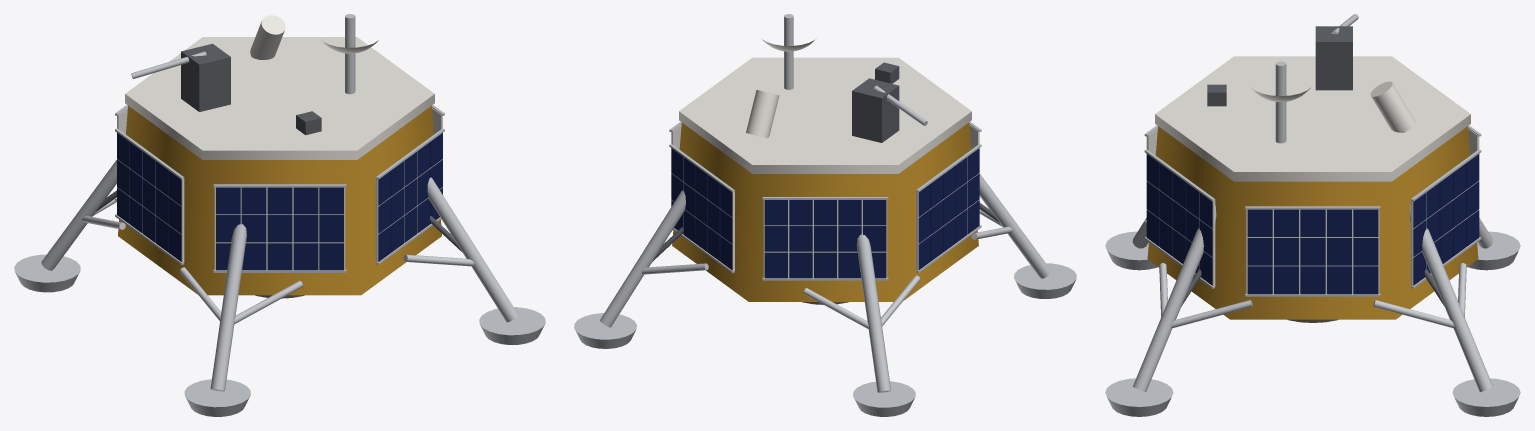
The model's file is blue_ghost.glb.
3 renders of one model, left to right at view 1: azimuth 30°, elevation 25°; view 2: azimuth 150°, elevation 25°; view 3: azimuth 270°, elevation 25°, orthographic. The views are drawn at different scales.
Visible parts, largest first — view 1: TopDeck, Body, Side_5, Side_4, Side_0, Drill, Leg_Primary_1, Leg_Primary_0, Leg_Pad_1, Leg_Pad_0, Leg_Pad_2, Leg_Primary_2 (+8 smaller); view 2: TopDeck, Body, Side_3, Side_4, Side_2, Drill, Leg_Primary_2, Leg_Primary_3, Leg_Pad_2, Leg_Pad_3, Leg_Pad_1, Leg_Primary_1 (+6 smaller); view 3: TopDeck, Body, Side_1, Side_0, Side_2, Leg_Primary_0, Leg_Primary_3, Drill, Leg_Pad_0, Leg_Pad_3, Side_1_Back, Telescope (+8 smaller).
Boxes of the visible parts, x1,y1,x2,y2 form: TopDeck: (125, 37, 434, 159); Body: (118, 105, 441, 295); Side_5: (213, 184, 346, 272); Side_4: (115, 128, 183, 264); Side_0: (376, 128, 444, 264); Drill: (181, 43, 230, 111); Leg_Primary_1: (210, 223, 246, 391); Leg_Primary_0: (427, 177, 518, 322); Leg_Pad_1: (184, 379, 250, 416); Leg_Pad_0: (479, 307, 545, 344); Leg_Pad_2: (14, 254, 80, 292); Leg_Primary_2: (41, 160, 116, 270); TopDeck: (679, 57, 971, 173); Body: (672, 122, 978, 301); Side_3: (762, 197, 888, 280); Side_4: (916, 144, 981, 273); Side_2: (669, 144, 734, 273); Drill: (852, 78, 899, 142); Leg_Primary_2: (856, 233, 891, 392); Leg_Primary_3: (600, 190, 685, 327); Leg_Pad_2: (853, 381, 915, 416); Leg_Pad_3: (574, 313, 636, 348); Leg_Pad_1: (1014, 263, 1076, 298); Leg_Primary_1: (979, 173, 1051, 278); TopDeck: (1155, 56, 1470, 181); Body: (1147, 126, 1478, 319); Side_1: (1245, 206, 1380, 296); Side_0: (1144, 149, 1214, 288); Side_2: (1411, 149, 1481, 288); Leg_Primary_0: (1133, 205, 1216, 392); Leg_Primary_3: (1409, 205, 1492, 392); Drill: (1315, 26, 1352, 90); Leg_Pad_0: (1105, 378, 1173, 416); Leg_Pad_3: (1452, 378, 1520, 416); Side_1_Back: (1246, 209, 1379, 293); Telescope: (1370, 81, 1415, 132).
Bounding box in the file's own units: 3.89 × 3.05 × 3.89.
